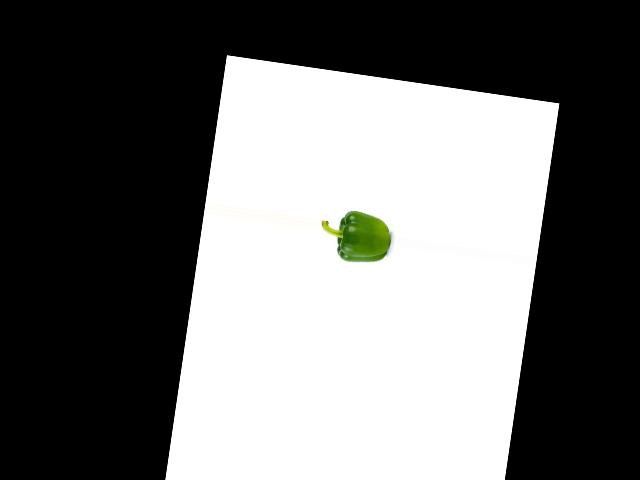bell_pepper: (317, 205, 394, 275)
